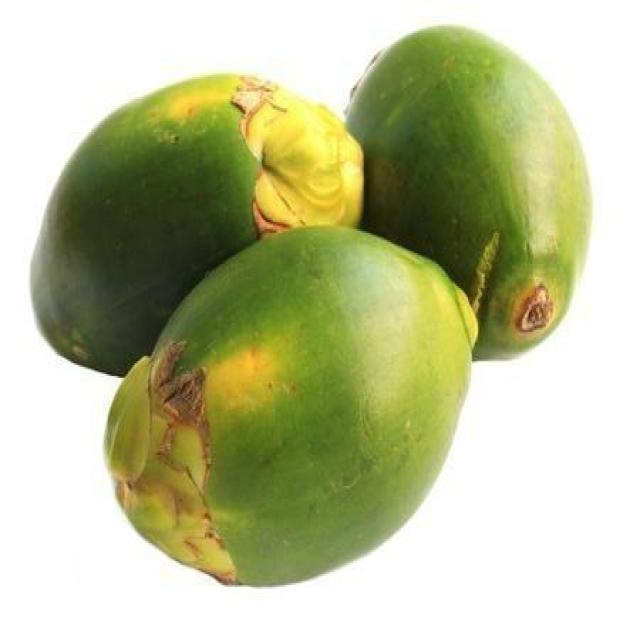good: (102, 226, 481, 590), (30, 73, 364, 380), (346, 26, 593, 363)
